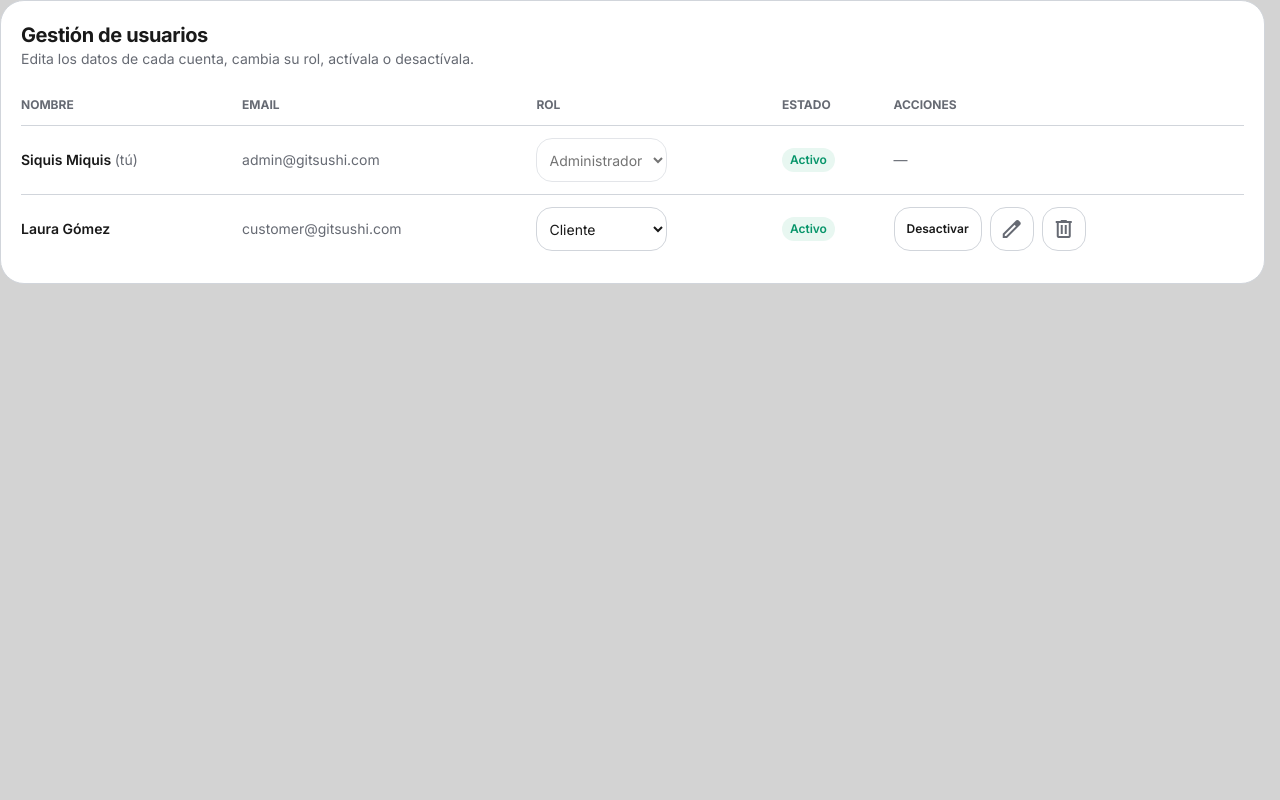
AdminUsersPanel › guarda los cambios, cierra la ventana y actualiza la fila
This screenshot has width=1280, height=800.
Step 1. Click the button named "Editar a Laura Gómez" → [1012, 229], box [990, 207, 1034, 251]
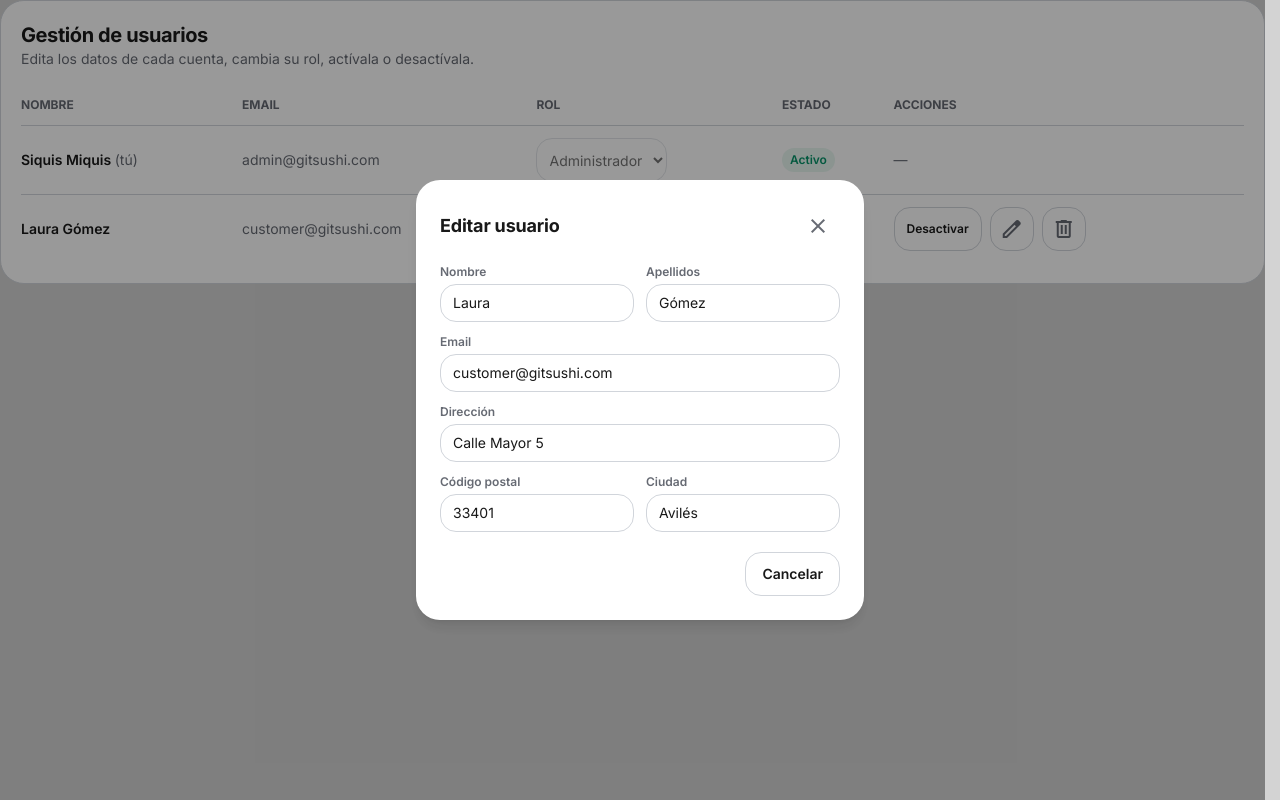
Step 2. Replace the text in the field with id "user-first-name" with "Lucía" → [537, 303], box [440, 284, 634, 322]
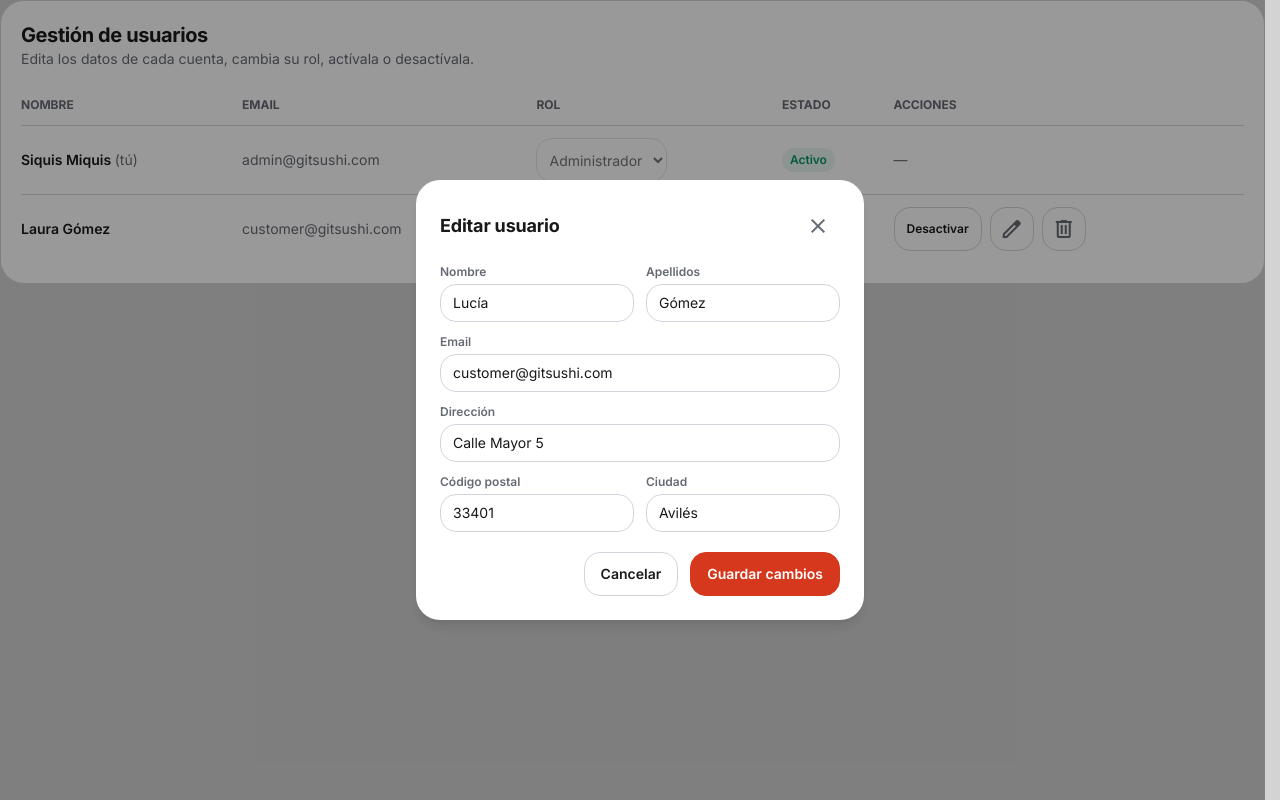
Step 3. Submit the form with class "user-form__form", box [440, 264, 840, 596]
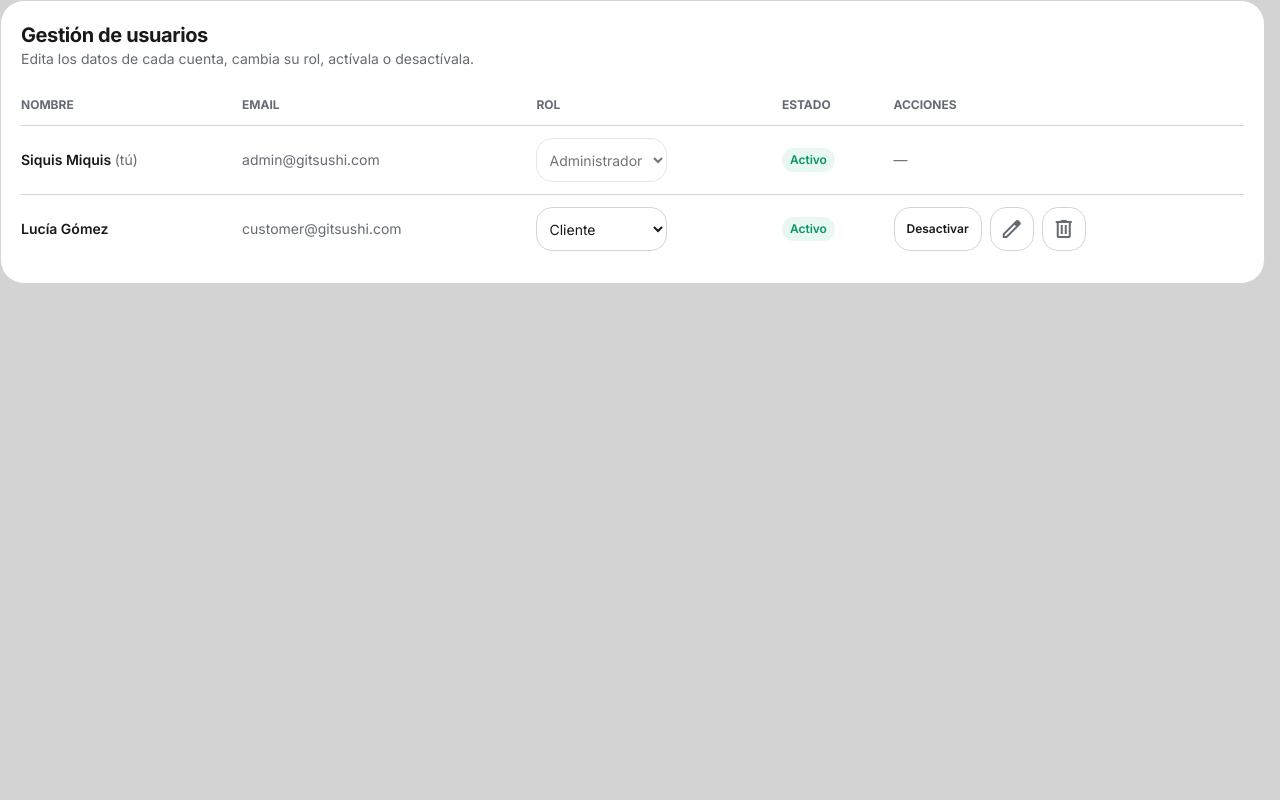
Now the row "Lucía Gómez customer@gitsushi.com Activo Desactivar" is shown, box [21, 194, 1244, 263]
